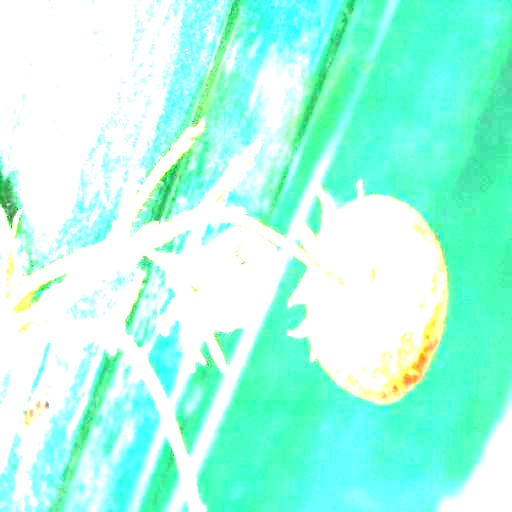Gray Mold: (151, 207, 281, 376)
